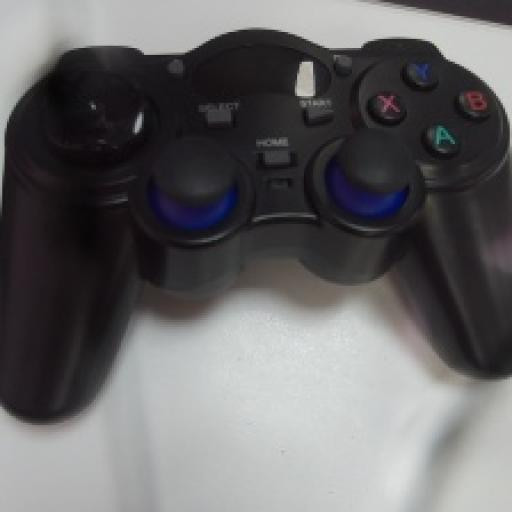game pad: (0, 30, 510, 421)
